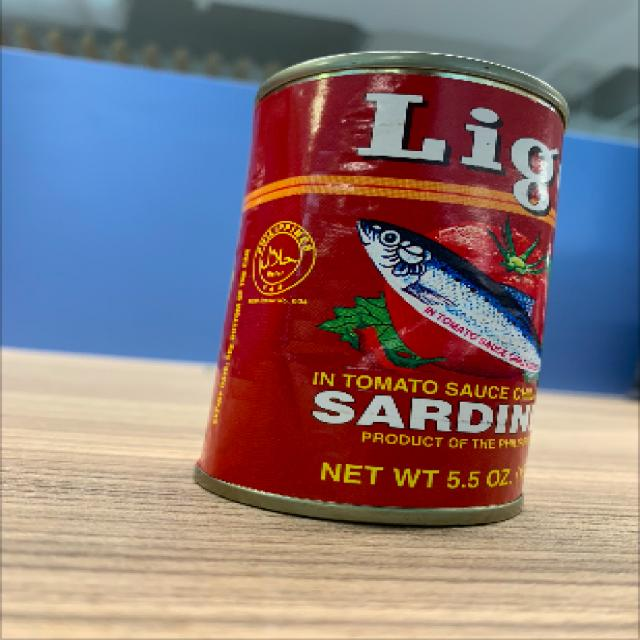object_name: (245, 64, 548, 516)
